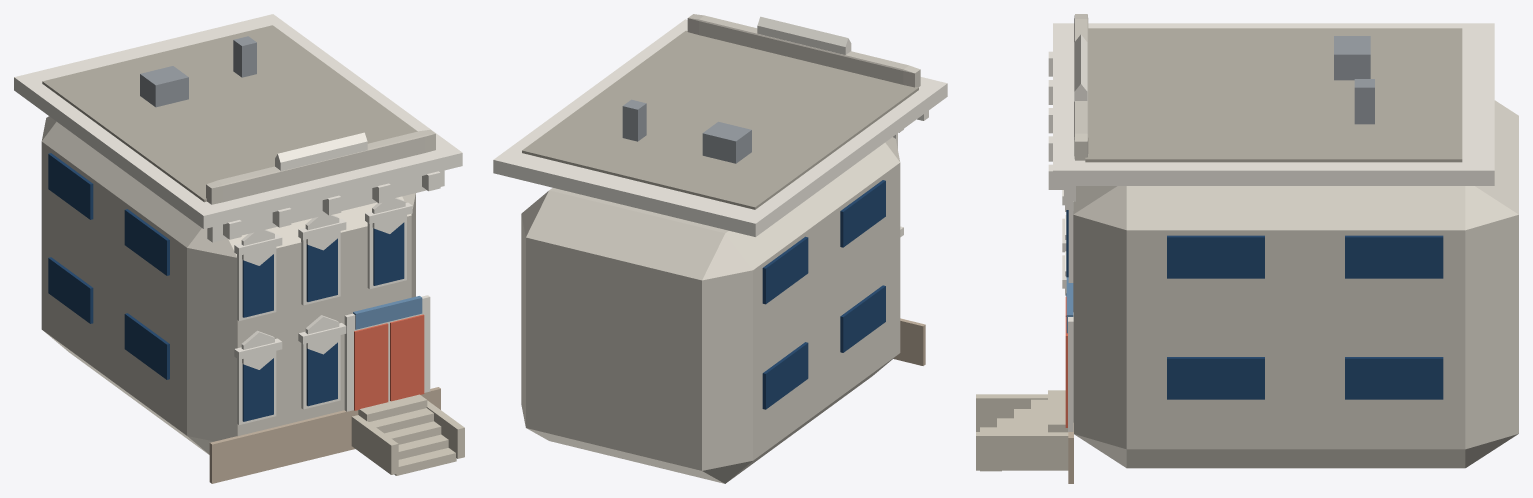
The model's file is ital_w7_flat.glb.
The picture shows the model from 3 angles, left to right: view 1: azimuth 30°, elevation 25°; view 2: azimuth 150°, elevation 25°; view 3: azimuth 270°, elevation 25°; orthographic projection. The views are drawn at different scales.
Parts seen in each view (by area): view 1: walls, roofslab, corn, bsmt, fparapet, door.001, door, frieze, dfr, sb, sb.002, sb.004 (+33 smaller); view 2: walls, roofslab, corn, fparapet, sb.002, sb.006, sb, sb.004, hvac, bsmt, roof, pipe (+1 smaller); view 3: walls, roofslab, corn, sb.007, sb.005, sb.003, sb.001, cheek.001, hvac, cheek, fparapet, pipe (+3 smaller).
Boxes of the visible parts, x1,y1,x2,y2 form: walls: (41,116,415,454); roofslab: (42,25,417,202); corn: (14,14,462,228); bsmt: (209,387,440,483); fparapet: (206,129,435,204); door.001: (390,314,424,401); door: (354,323,388,410); frieze: (207,170,444,242); dfr: (344,295,430,411); sb: (124,313,169,379); sb.002: (48,257,93,323); sb.004: (124,209,169,275); walls: (521,137,900,483); roofslab: (522,30,918,209); corn: (493,19,947,236); fparapet: (687,14,920,87); sb.002: (762,342,808,409); sb.006: (762,236,808,304); sb: (840,285,885,352); sb.004: (840,180,885,247); hvac: (702,121,751,163); bsmt: (893,318,925,365); roof: (757,16,850,46); pipe: (622,99,646,141); walls: (1073,100,1518,468); roofslab: (1085,28,1462,162); corn: (1053,23,1494,185); sb.007: (1345,235,1443,278); sb.005: (1167,235,1264,278); sb.003: (1345,357,1443,399); sb.001: (1167,357,1264,399); cheek.001: (976,432,1068,470); hvac: (1334,36,1370,80); cheek: (976,394,1047,431); fparapet: (1074,14,1088,160); pipe: (1354,79,1374,124).
Bounding box in the file's own units: 8.6 × 9.85 × 13.4.
